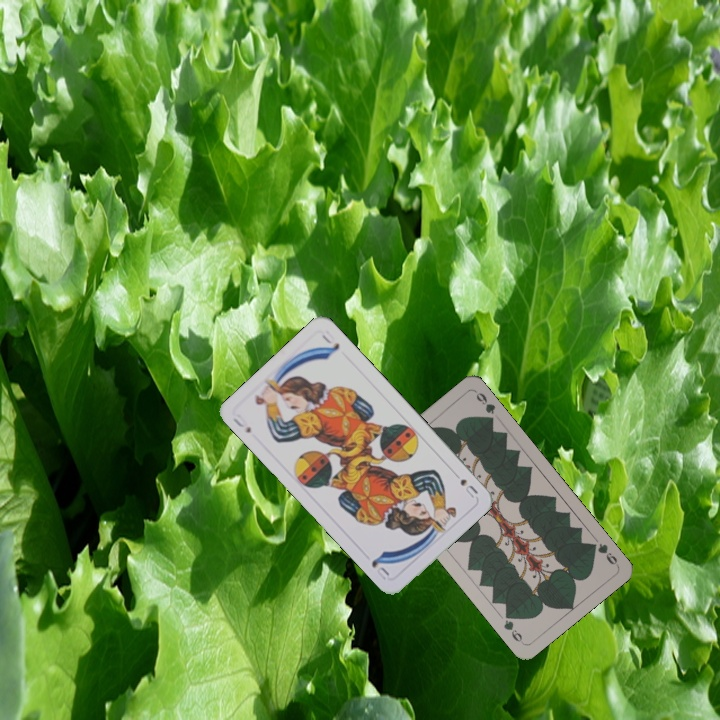G9: (585, 539, 620, 568)
SU: (456, 475, 481, 501), (229, 410, 254, 436)
